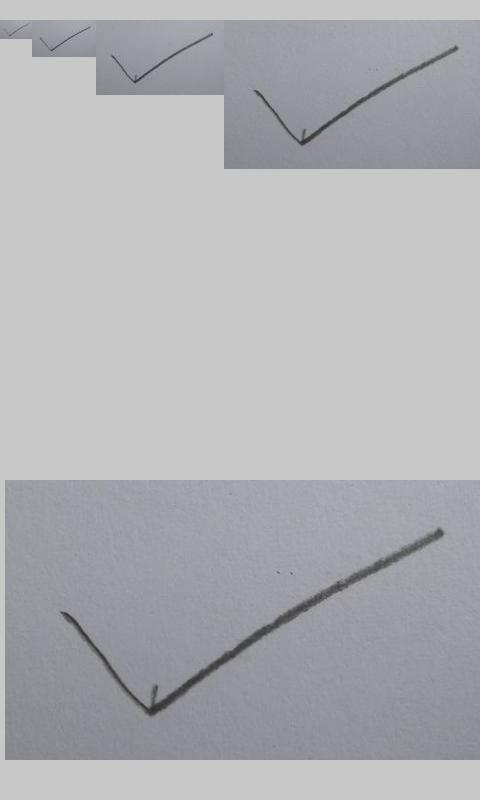check_box: (62, 529, 445, 717), (254, 46, 457, 146), (111, 33, 212, 83), (40, 27, 90, 51), (4, 24, 29, 36)
